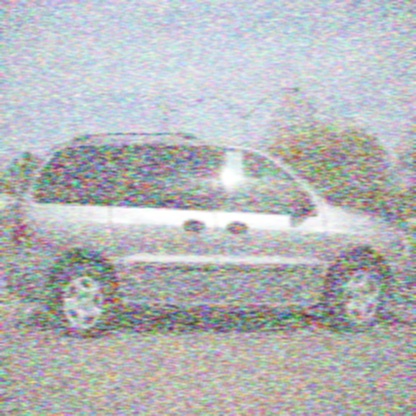Vehicle: (8, 126, 413, 356)
